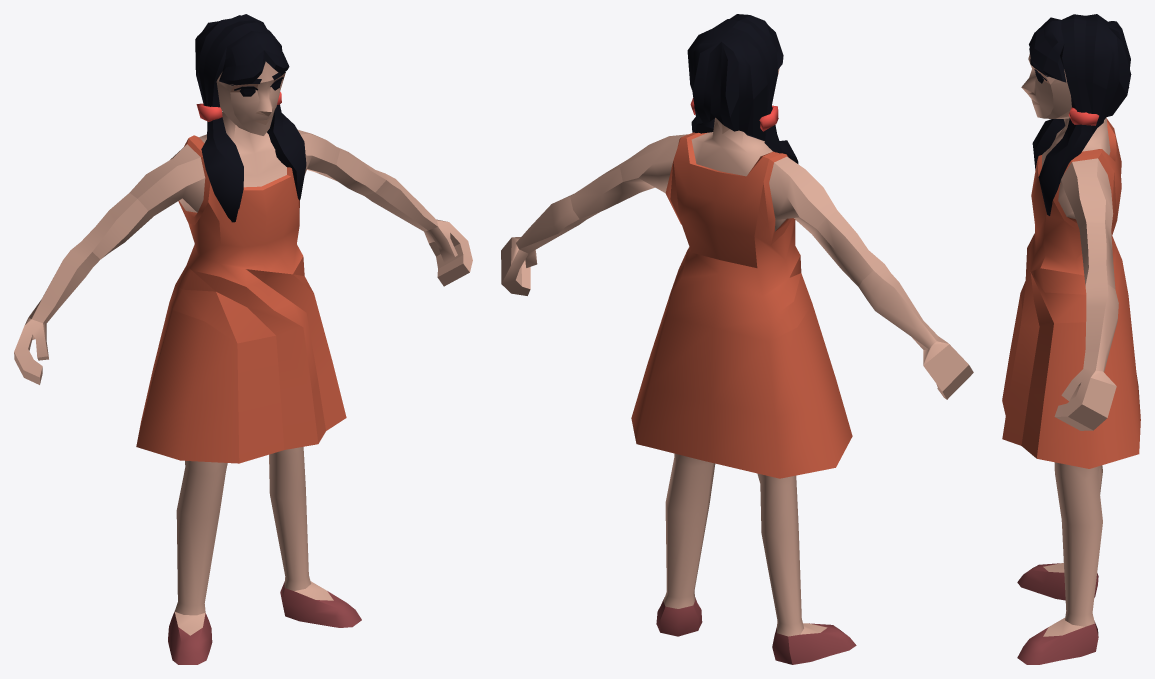
File: Girl.fbx
The picture shows the model from 3 angles, left to right: view 1: azimuth 30°, elevation 25°; view 2: azimuth 150°, elevation 25°; view 3: azimuth 270°, elevation 25°; orthographic projection. The views are drawn at different scales.
Parts seen in each view (by area): view 1: Girl; view 2: Girl; view 3: Girl.
Part boxes in pixels (bbox=[...]): Girl: bbox=[14, 14, 472, 664]; Girl: bbox=[501, 14, 973, 664]; Girl: bbox=[1002, 14, 1140, 664].
Bounding box in the file's own units: 36.25 × 45.93 × 9.6.
